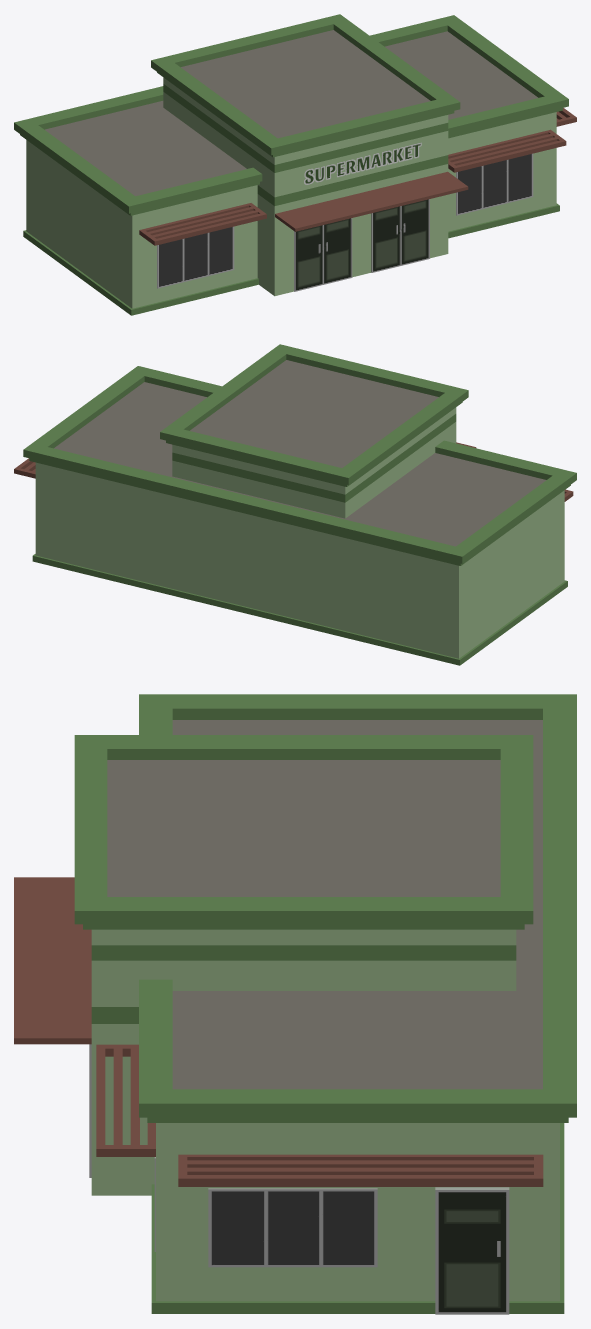
File: building-super-market.glb
3 views of the same model, one above another, from view 1: azimuth 30°, elevation 25°; view 2: azimuth 150°, elevation 25°; view 3: azimuth 270°, elevation 25° (orthographic). The views are drawn at different scales.
Visible parts, largest first — view 1: Building_Super Market; view 2: Building_Super Market; view 3: Building_Super Market.
Part boxes in pixels (bbox=[...]): Building_Super Market: bbox=[14, 14, 576, 315]; Building_Super Market: bbox=[14, 344, 576, 665]; Building_Super Market: bbox=[14, 694, 576, 1314].
Size of the model in its own units: 23.75 by 7.58 by 13.25.
1 material, 1 textured.
